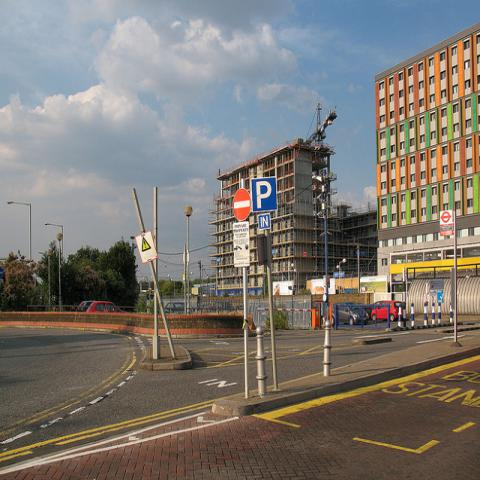car: (74, 300, 132, 316), (332, 303, 369, 326), (371, 301, 404, 322), (164, 302, 195, 314), (364, 300, 382, 318)
